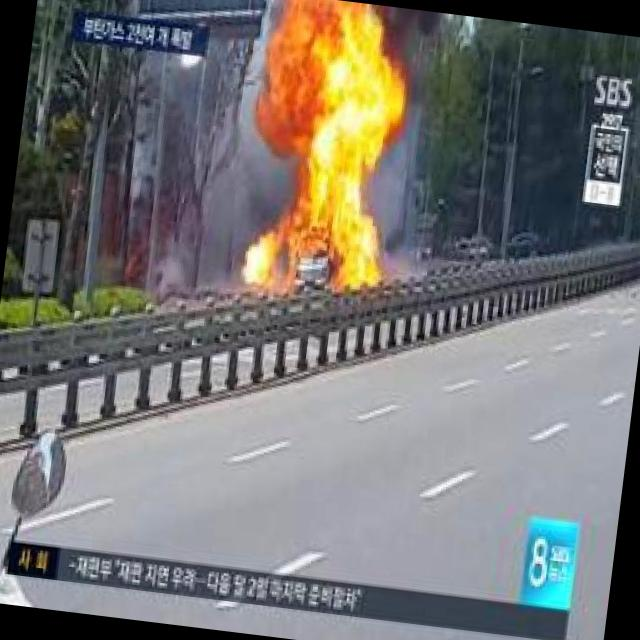Fire: (256, 0, 418, 160), (240, 204, 386, 300), (290, 149, 369, 217)
